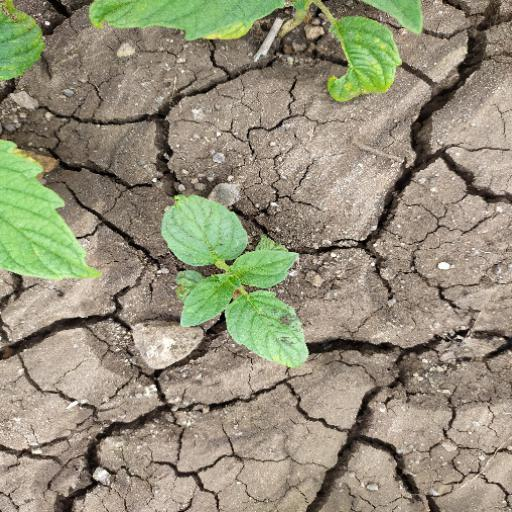crop: (144, 179, 331, 377)
